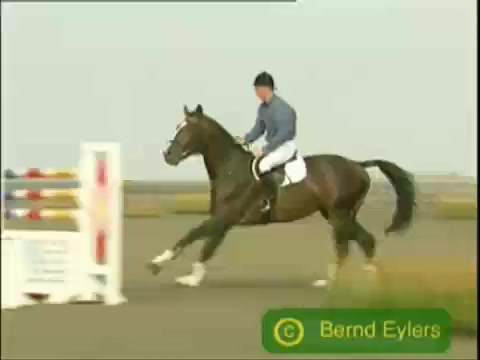horse: (152, 104, 418, 290)
